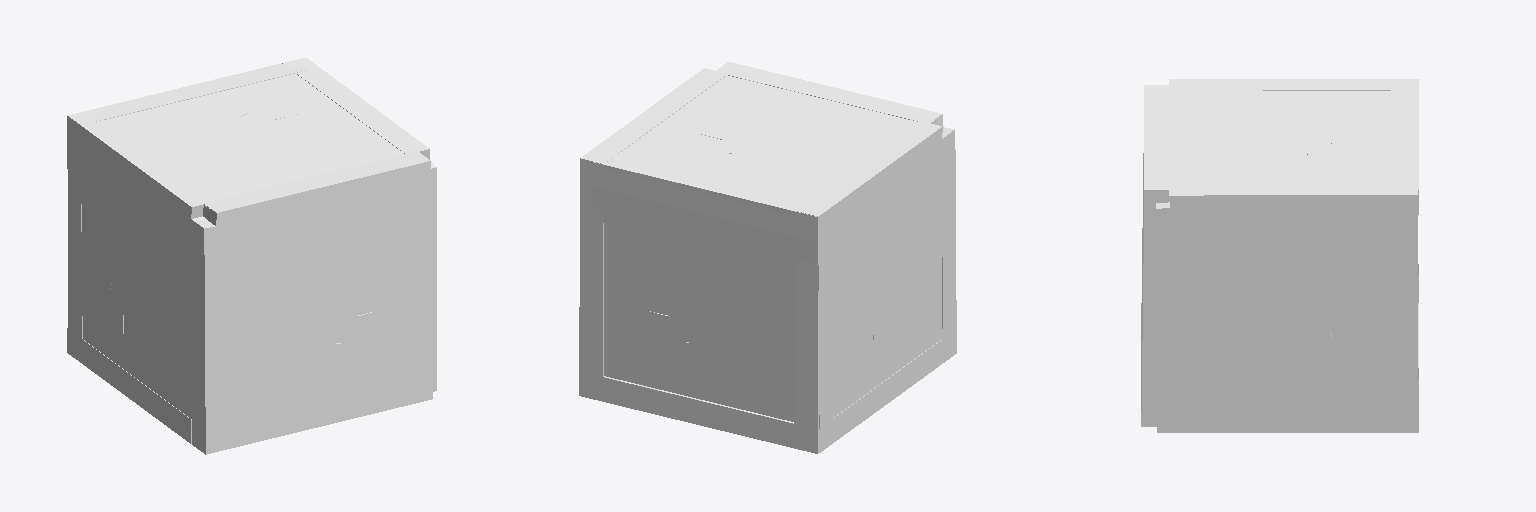
File: questionbox.obj
3 views of the same model, side by side, from view 1: azimuth 30°, elevation 25°; view 2: azimuth 150°, elevation 25°; view 3: azimuth 270°, elevation 25° (orthographic).
Parts seen in each view (by area): view 1: Object.3, Object.6, Object.2, Object.4, Object.5, Object.1; view 2: Object.4, Object.2, Object.6, Object.1, Object.5, Object.3; view 3: Object.5, Object.2, Object.3, Object.6, Object.4.
Part boxes in pixels (bbox=[...]): Object.3: bbox=[191, 152, 432, 454]; Object.6: bbox=[68, 110, 214, 418]; Object.2: bbox=[67, 73, 403, 230]; Object.4: bbox=[67, 63, 306, 362]; Object.5: bbox=[282, 58, 436, 391]; Object.1: bbox=[67, 328, 191, 443]; Object.4: bbox=[591, 152, 832, 450]; Object.2: bbox=[591, 75, 941, 241]; Object.6: bbox=[794, 121, 942, 452]; Object.1: bbox=[591, 340, 941, 453]; Object.5: bbox=[579, 68, 726, 398]; Object.3: bbox=[716, 62, 956, 362]; Object.5: bbox=[1156, 183, 1418, 432]; Object.2: bbox=[1157, 79, 1418, 214]; Object.3: bbox=[1141, 85, 1171, 426]; Object.6: bbox=[1169, 79, 1418, 302]; Object.4: bbox=[1391, 85, 1418, 199].
Size of the model in its own units: 77.05 by 73.39 by 77.42.